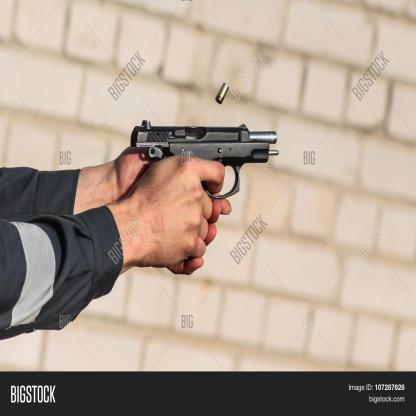handgun: (131, 118, 279, 202)
